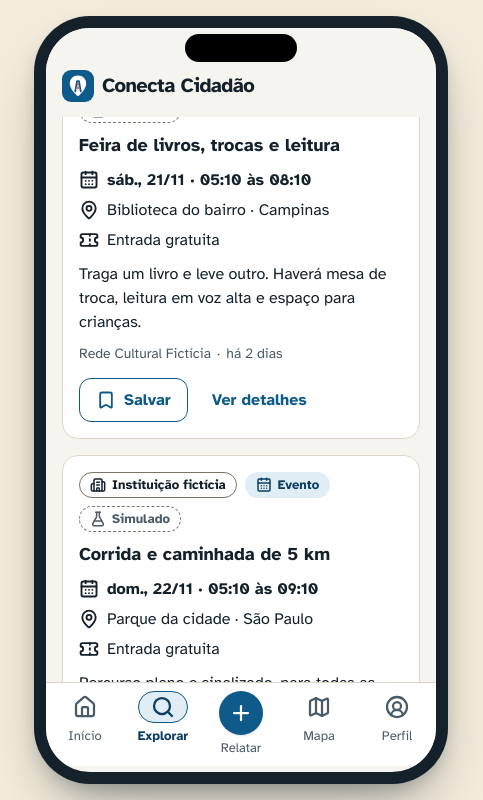
Test: Estado como visitante › salvar um evento leva para Entrar
This screenshot has width=483, height=800.
(page scrolled)
Click the button "Salvar": [133, 400] box [79,378,188,422]
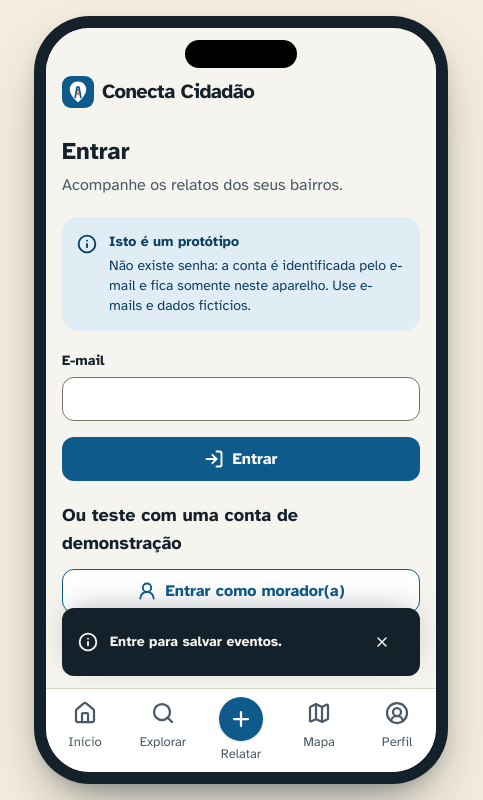
Result: the heading "Entrar" is shown at [62,136,130,166]
